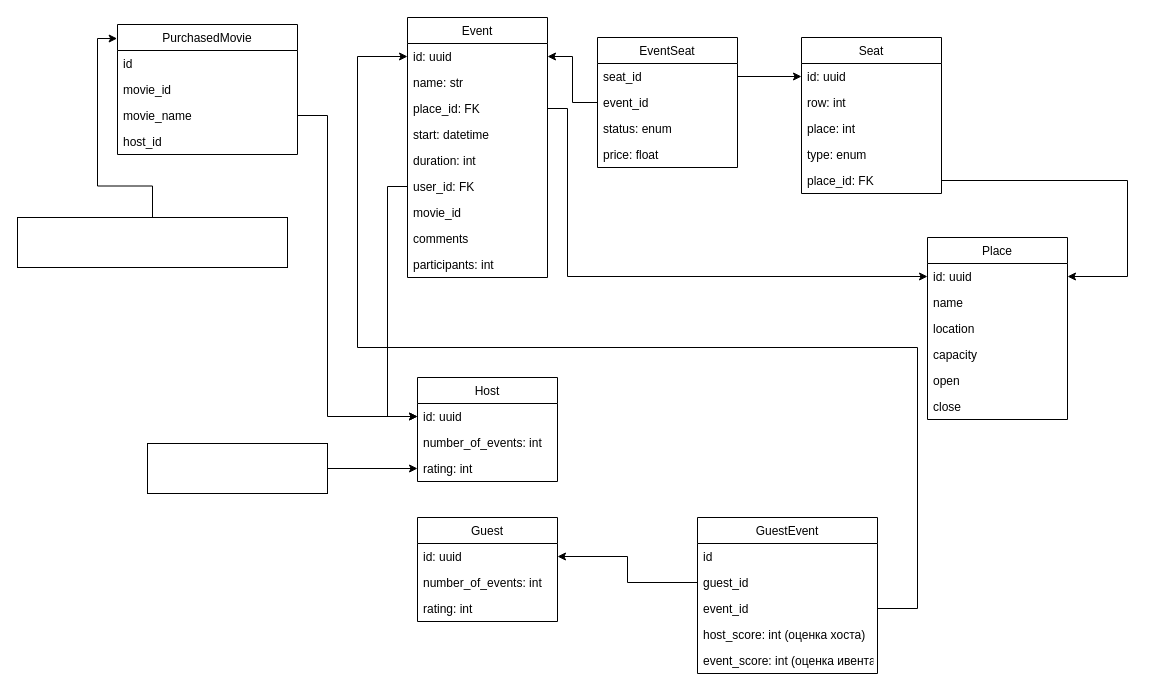
The diagram is 1153 pixels wide and 694 high, and some of its shapes have lost their labels. Here are the shapes that lost their labels. From the top down, the centre of each, then its label:
At (x=152, y=242): "Как запрашивать бесплатные фильмы?".
At (x=237, y=468): "Как хранить рейтинг?".
